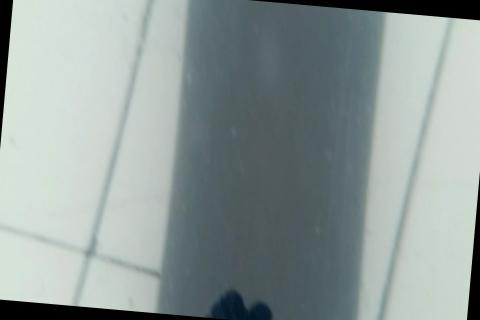kebocoran: (202, 283, 279, 320)
